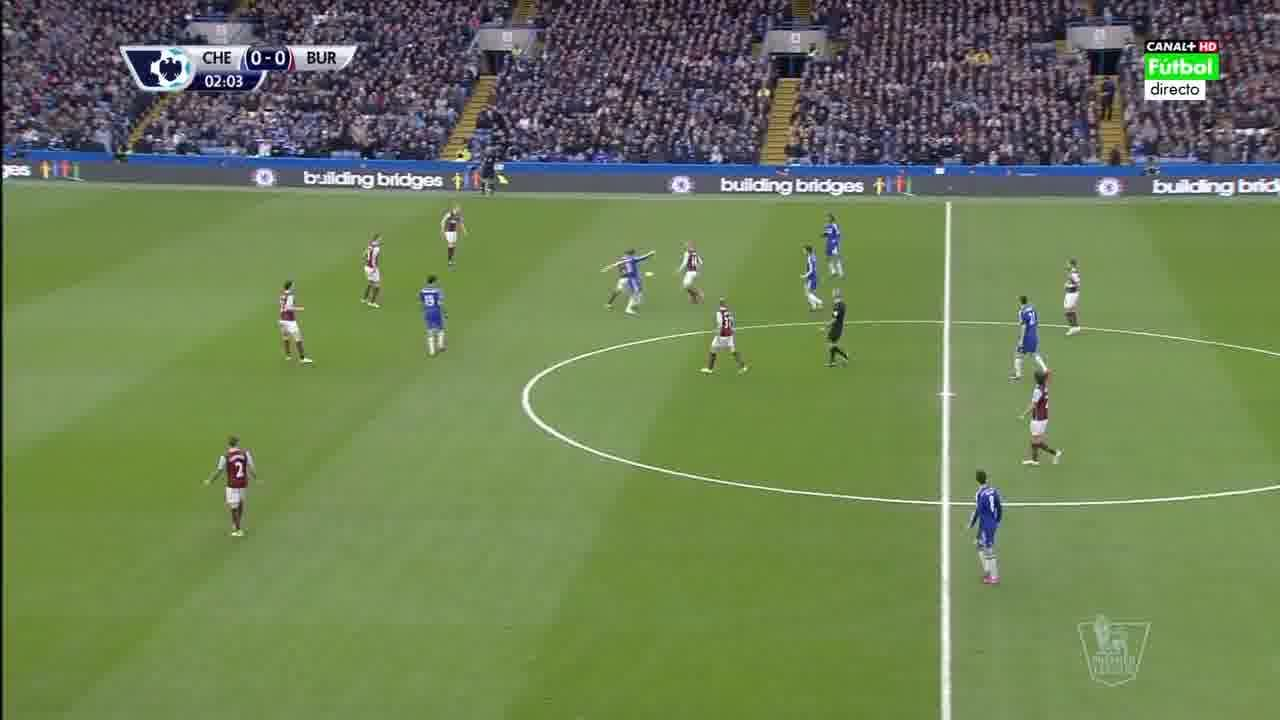football: (644, 272, 656, 279)
